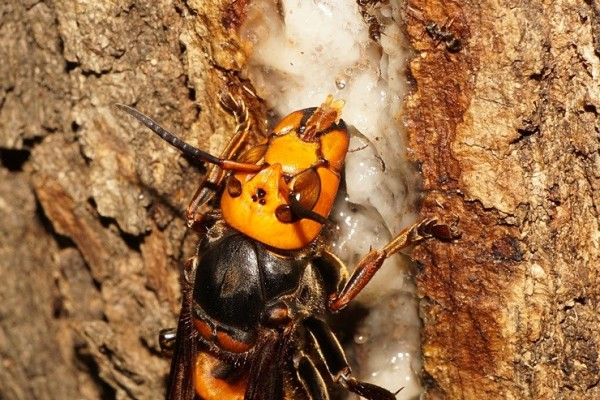asian_giant_hornet: (159, 88, 424, 400)
